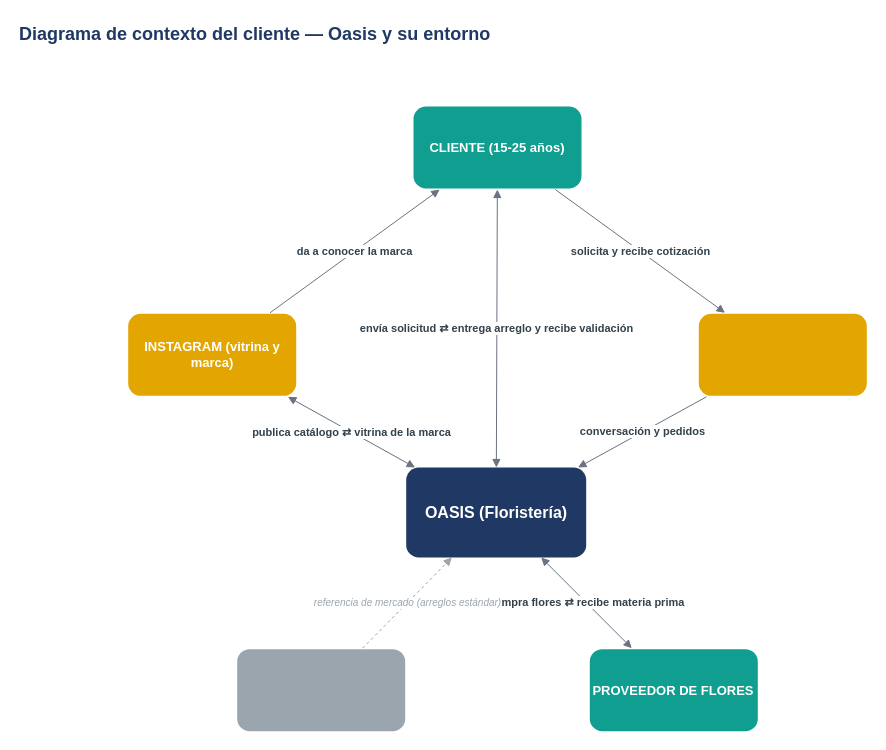
This 886x750 diagram has some shape labels left out. Here are the shapes that lost their labels. From the top down, the centre of each, then its label:
(x=782, y=354): WHATSAPP (canal de pedidos)
(x=321, y=690): COMPETENCIA (floristerías tradicionales)
